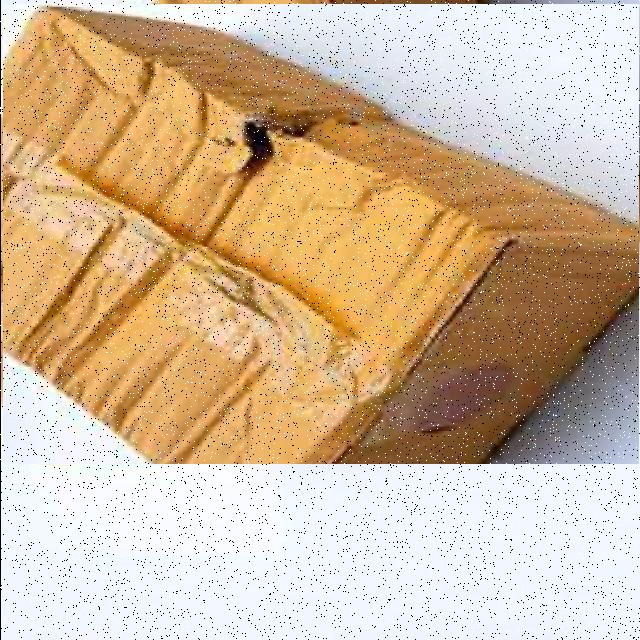defect: (2, 4, 638, 464)
